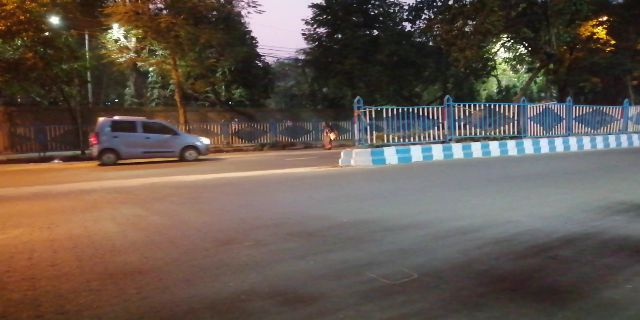Car: (83, 113, 214, 160)
